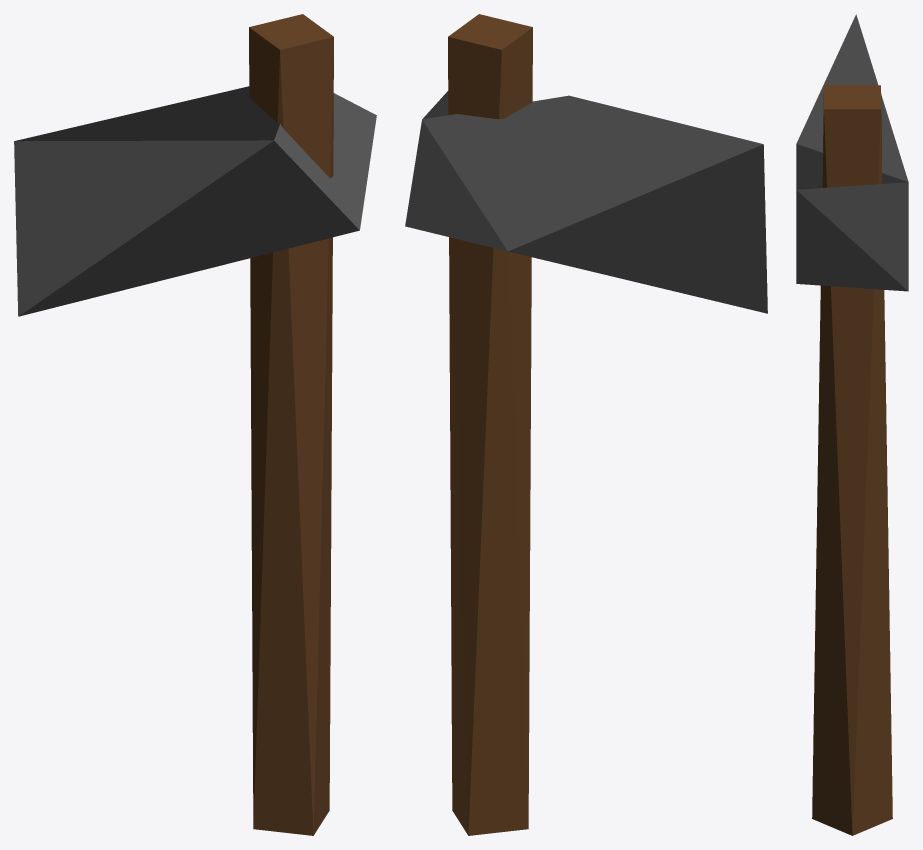
The model's file is топор.fbx.
3 renders of one model, left to right at view 1: azimuth 30°, elevation 25°; view 2: azimuth 150°, elevation 25°; view 3: azimuth 270°, elevation 25°, orthographic. The views are drawn at different scales.
Parts seen in each view (by area): view 1: Cube.001; view 2: Cube.001; view 3: Cube.001.
Boxes of the visible parts, x1,y1,x2,y2 form: Cube.001: (14,14,376,835); Cube.001: (405,14,767,835); Cube.001: (796,14,908,835).
Bounding box in the file's own units: 622 × 1419 × 200.
